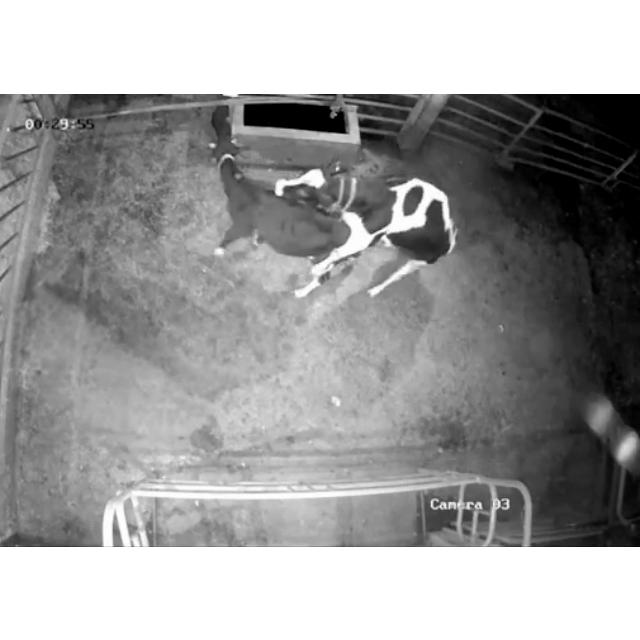ride: (268, 154, 468, 312)
